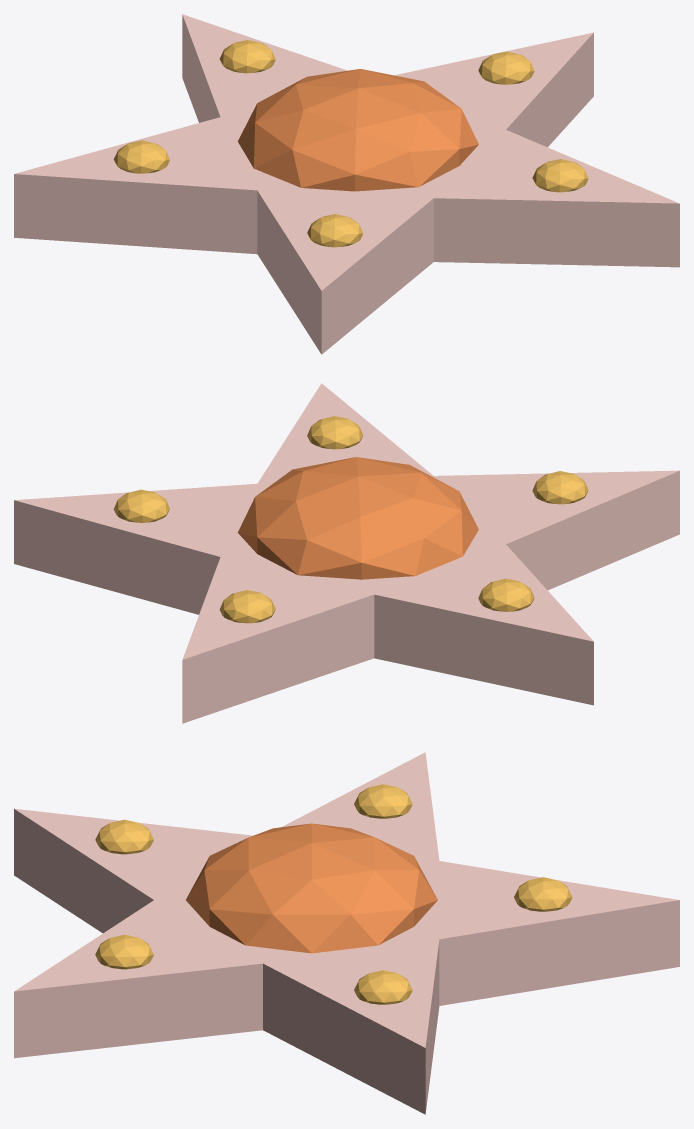
File: deco_starfish.obj
3 renders of one model, top to bottom at view 1: azimuth 30°, elevation 25°; view 2: azimuth 150°, elevation 25°; view 3: azimuth 270°, elevation 25°, orthographic. The views are drawn at different scales.
Parts seen in each view (by area): view 1: deco_starfish; view 2: deco_starfish; view 3: deco_starfish.
Boxes of the visible parts, bbox=[...] form: deco_starfish: bbox=[14, 14, 679, 354]; deco_starfish: bbox=[14, 383, 679, 723]; deco_starfish: bbox=[14, 752, 679, 1114].
Bounding box in the file's own units: 0.0666 × 0.013 × 0.0633.
1 material, 1 textured.
